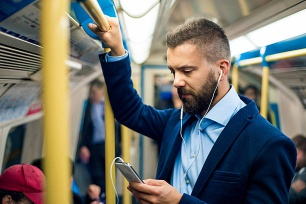male: (159, 26, 239, 116)
